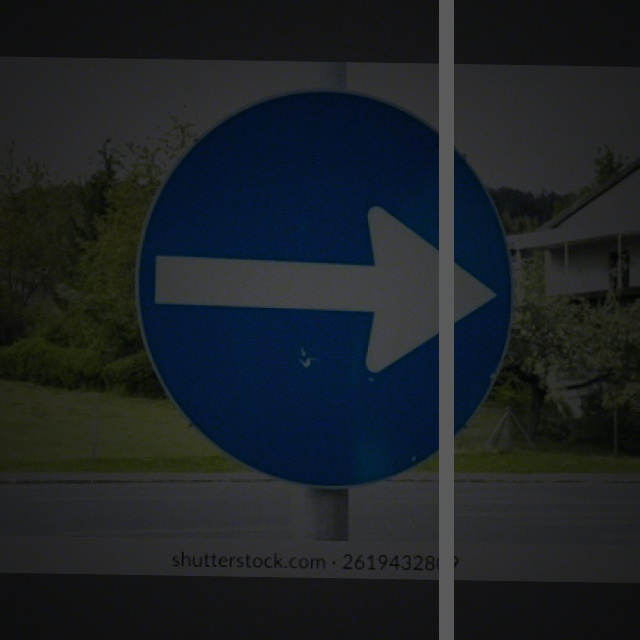Compulsory_Turn_Right: (141, 84, 519, 486)
